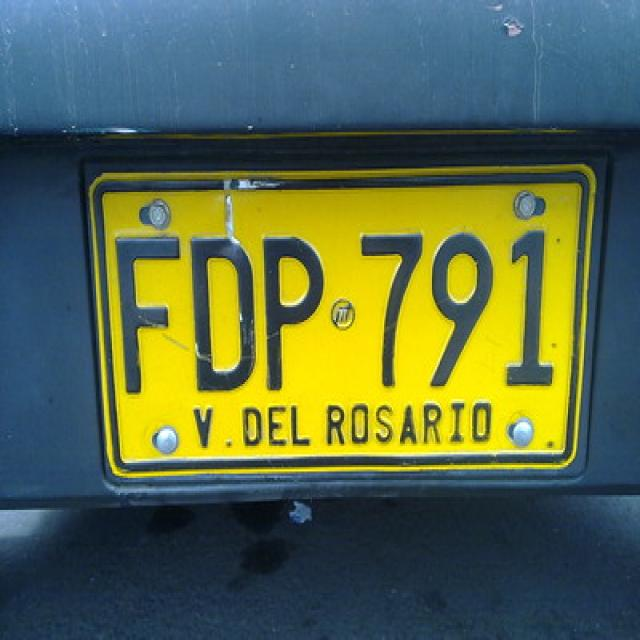placa_carro: (86, 164, 594, 486)
